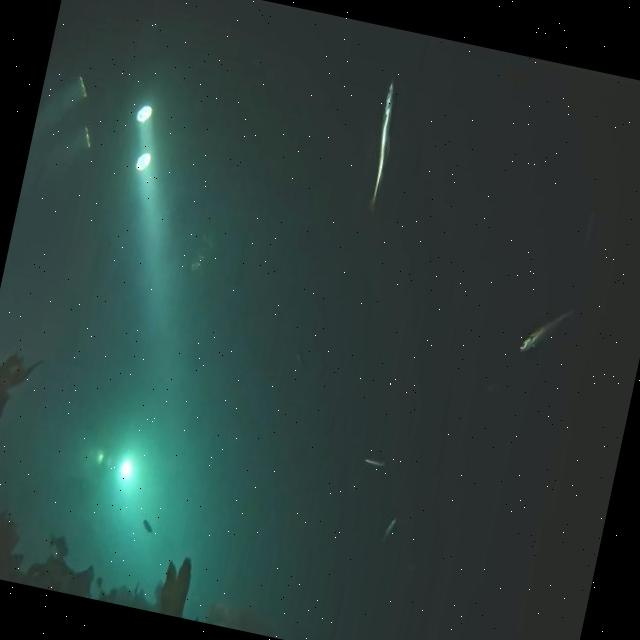fish: (359, 74, 406, 214), (516, 296, 582, 366), (380, 510, 400, 544), (362, 452, 389, 472), (138, 516, 156, 535)
